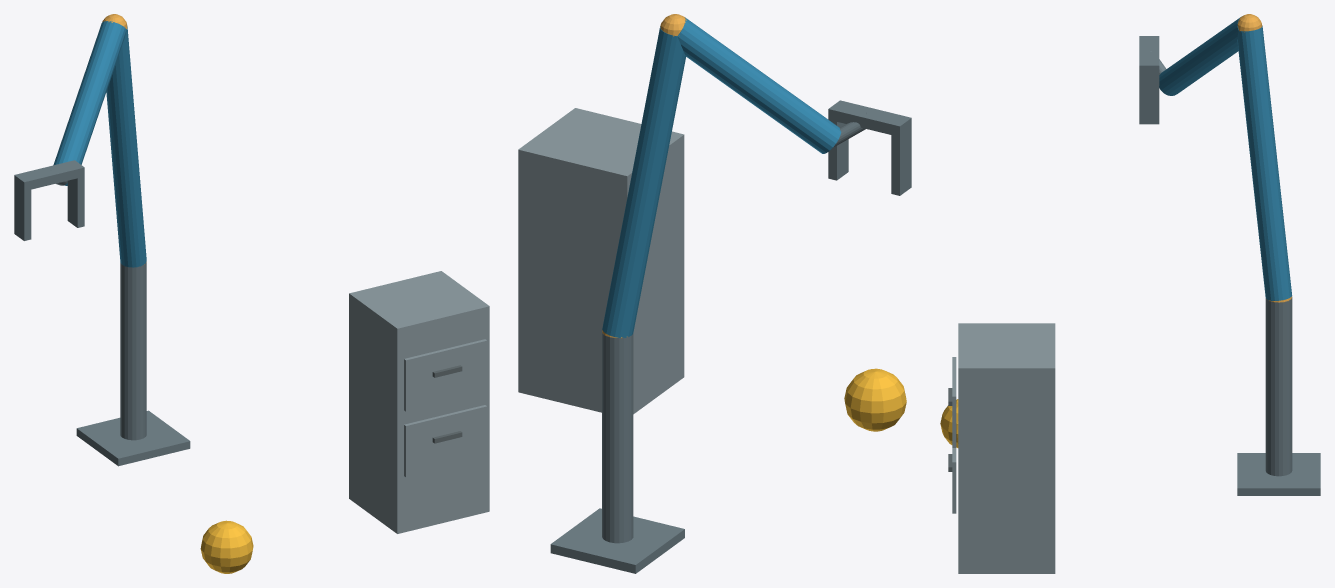
The picture shows the model from 3 angles, left to right: view 1: azimuth 30°, elevation 25°; view 2: azimuth 150°, elevation 25°; view 3: azimuth 270°, elevation 25°; orthographic projection. The views are drawn at different scales.
Parts seen in each view (by area): view 1: cabinet_1 body, moving link 1, fixed post, cabinet_1 drawer front.001, cabinet_1 drawer front, moving link 2, pedestal, ball ball_1, gripper bridge, gripper finger -1, gripper finger 1; view 2: cabinet_1 body, moving link 1, fixed post, moving link 2, pedestal, ball ball_1, gripper bridge, gripper finger -1, gripper finger 1; view 3: cabinet_1 body, moving link 1, fixed post, pedestal, moving link 2, gripper finger 1, gripper bridge, ball ball_1.
Part boxes in pixels (left/top/right/bottom): cabinet_1 body: left=349, top=271, right=489, bottom=533; moving link 1: left=106, top=26, right=146, bottom=267; fixed post: left=120, top=262, right=146, bottom=440; cabinet_1 drawer front.001: left=404, top=339, right=487, bottom=411; cabinet_1 drawer front: left=404, top=405, right=487, bottom=477; moving link 2: left=53, top=21, right=126, bottom=185; pedestal: left=76, top=410, right=190, bottom=466; ball ball_1: left=200, top=520, right=253, bottom=573; gripper bridge: left=14, top=160, right=84, bottom=191; gripper finger -1: left=14, top=184, right=31, bottom=240; gripper finger 1: left=67, top=176, right=84, bottom=227; cabinet_1 body: left=518, top=108, right=684, bottom=414; moving link 1: left=602, top=26, right=685, bottom=337; fixed post: left=602, top=332, right=633, bottom=543; moving link 2: left=677, top=17, right=841, bottom=153; pedestal: left=550, top=508, right=684, bottom=573; ball ball_1: left=844, top=368, right=906, bottom=431; gripper bridge: left=828, top=100, right=911, bottom=136; gripper finger -1: left=891, top=129, right=911, bottom=195; gripper finger 1: left=828, top=120, right=848, bottom=180; cabinet_1 body: left=958, top=323, right=1055, bottom=573; moving link 1: left=1237, top=26, right=1292, bottom=300; fixed post: left=1265, top=297, right=1292, bottom=476; pedestal: left=1237, top=453, right=1320, bottom=495; moving link 2: left=1159, top=16, right=1241, bottom=95; gripper finger 1: left=1139, top=74, right=1159, bottom=124; gripper bridge: left=1139, top=36, right=1159, bottom=74; ball ball_1: left=940, top=399, right=958, bottom=447.
Size of the model in its own units: 1.3 by 1.48 by 1.14.
